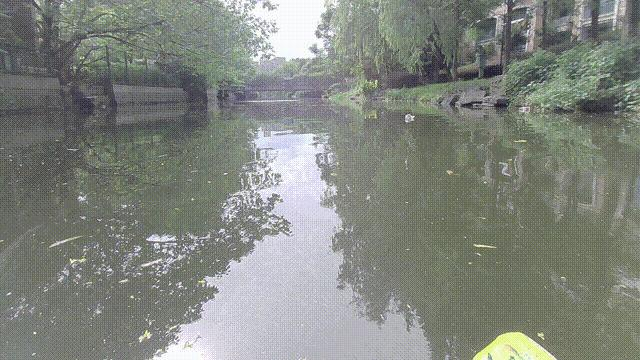Plastic: (403, 114, 415, 123), (518, 106, 530, 113), (513, 139, 528, 144)
